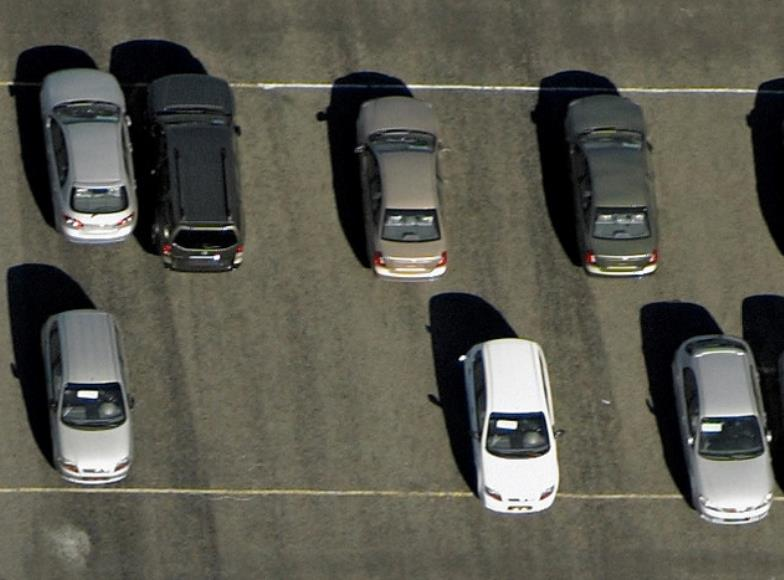car: (668, 331, 776, 528), (145, 72, 247, 277), (563, 90, 661, 280), (352, 94, 450, 281), (37, 67, 138, 246), (459, 335, 560, 514), (36, 307, 136, 487)
